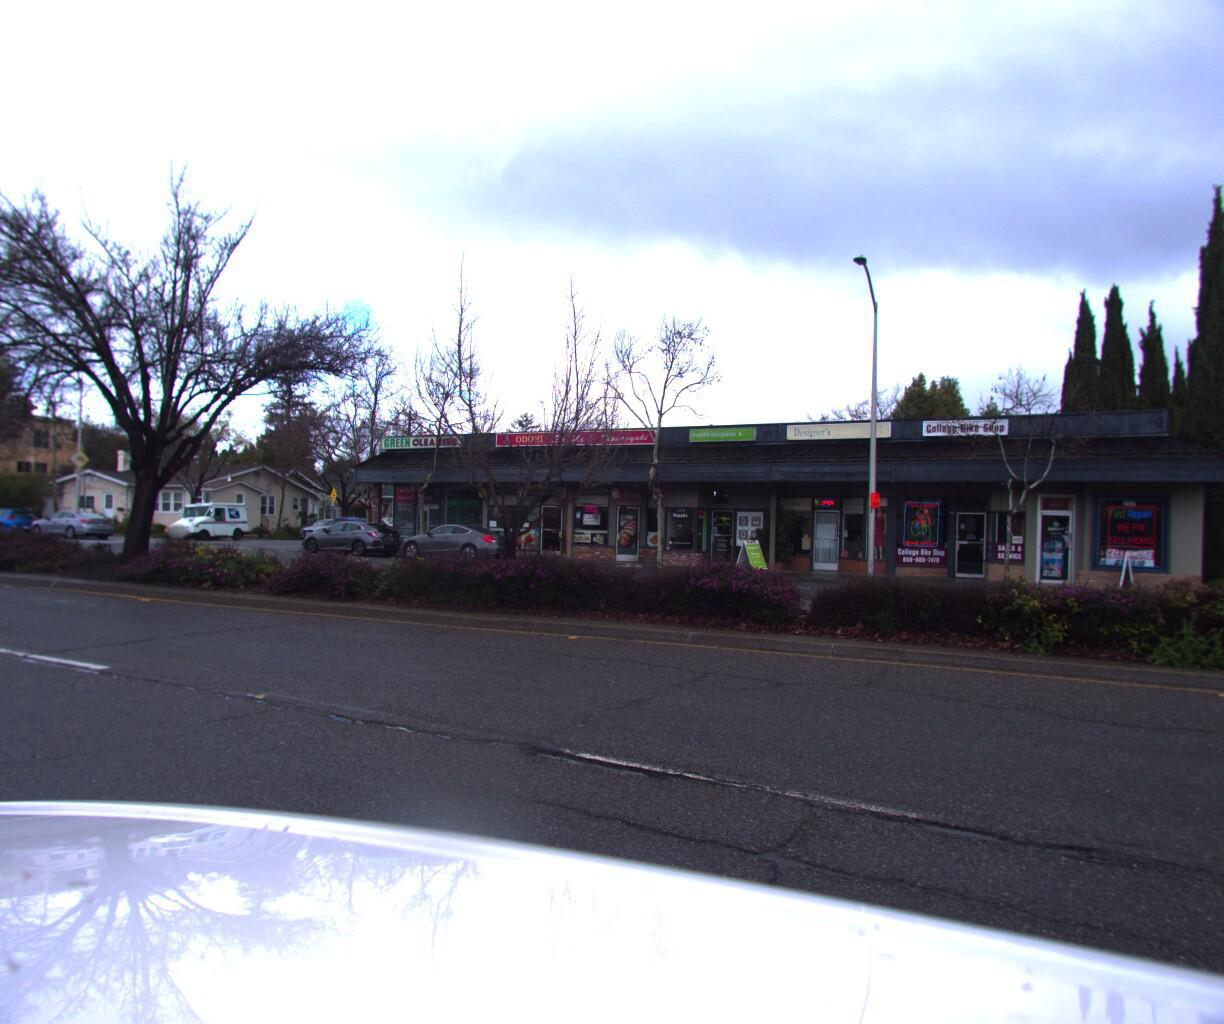car: (383, 524, 521, 570), (287, 522, 405, 563), (21, 511, 116, 547), (1175, 535, 1224, 594), (293, 521, 354, 543), (0, 509, 41, 539), (1221, 547, 1224, 589)
other_vehicle: (162, 502, 250, 543)
